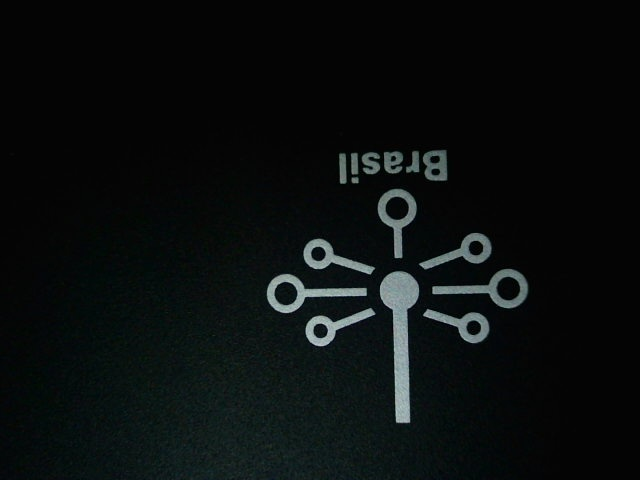BG_Brasil: (230, 125, 549, 433)
